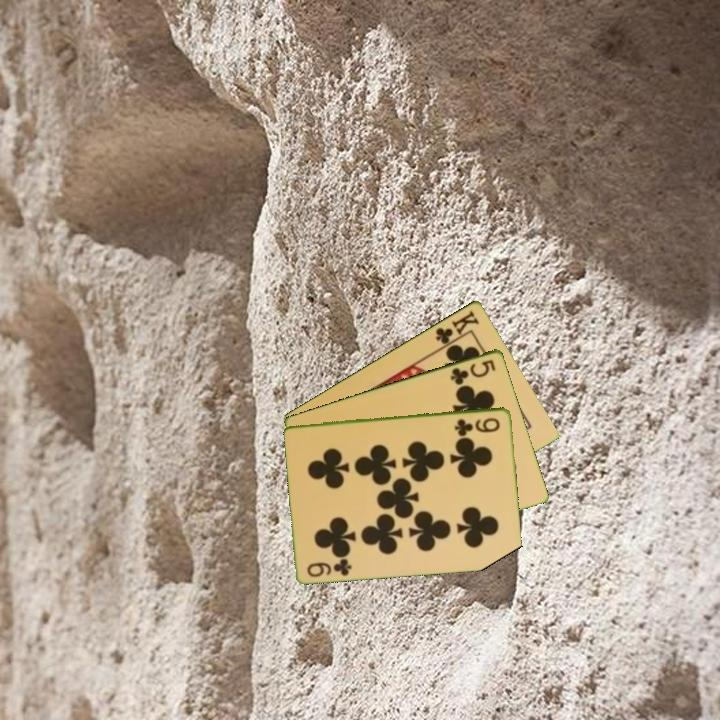5c: (447, 356, 499, 388)
9c: (304, 555, 355, 580), (452, 414, 503, 436)
Kc: (432, 307, 482, 351)
